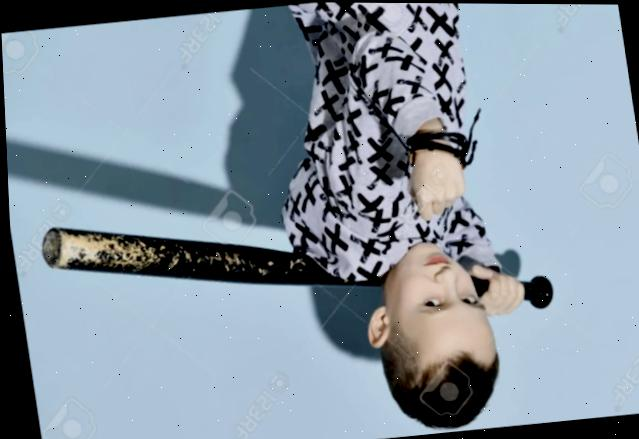baseball bat: (31, 180, 553, 358)
